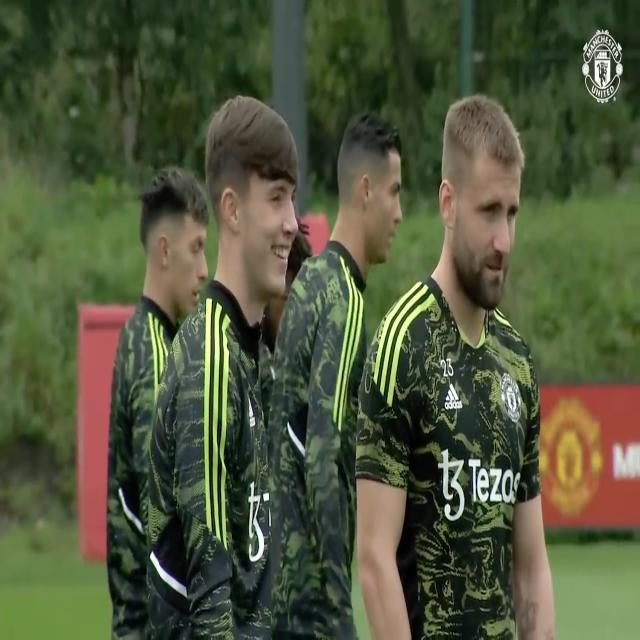Adidas: (445, 378, 463, 412)
